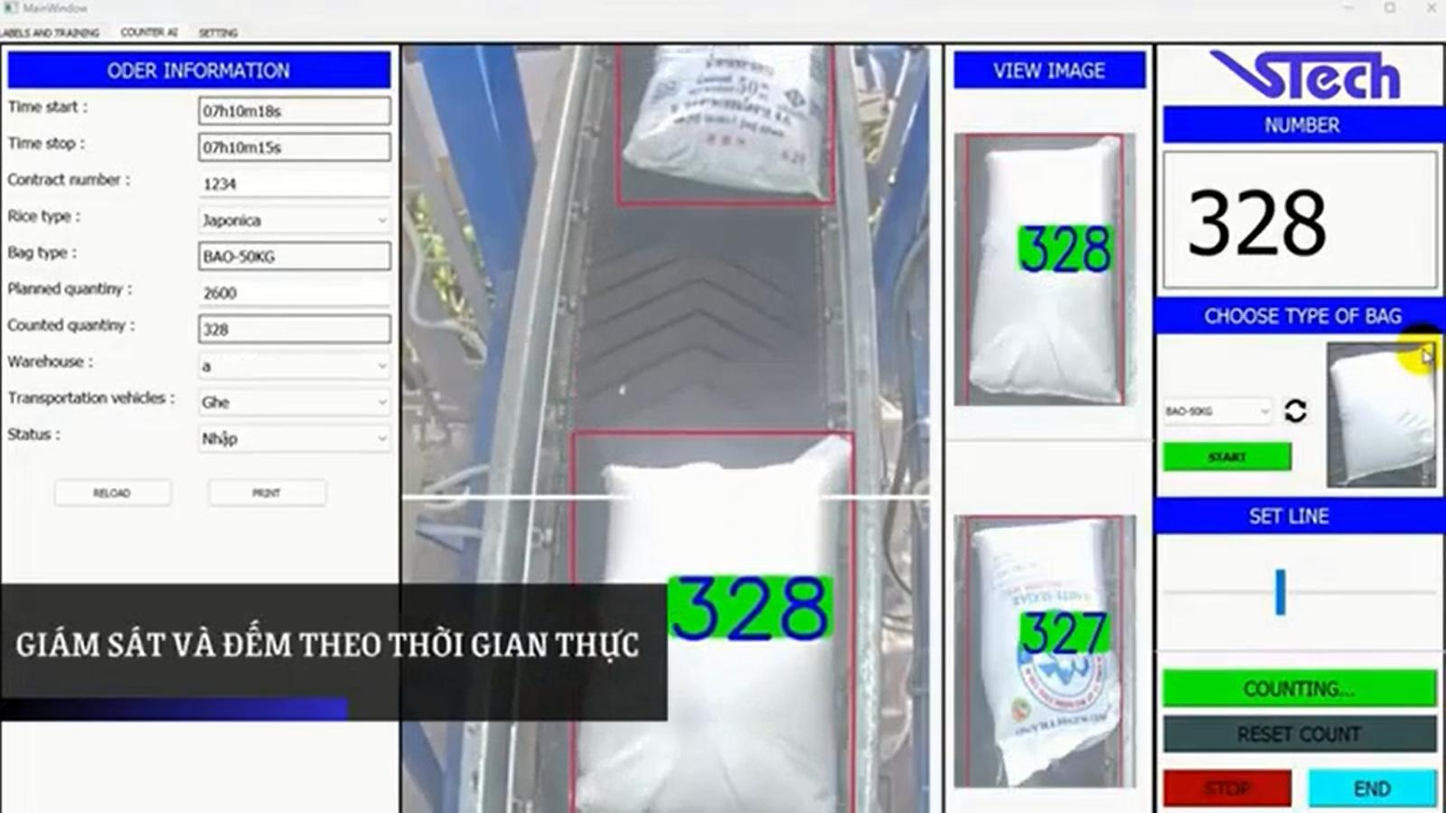rice-bag: (575, 437, 848, 812), (961, 136, 1122, 404), (971, 518, 1121, 783)
